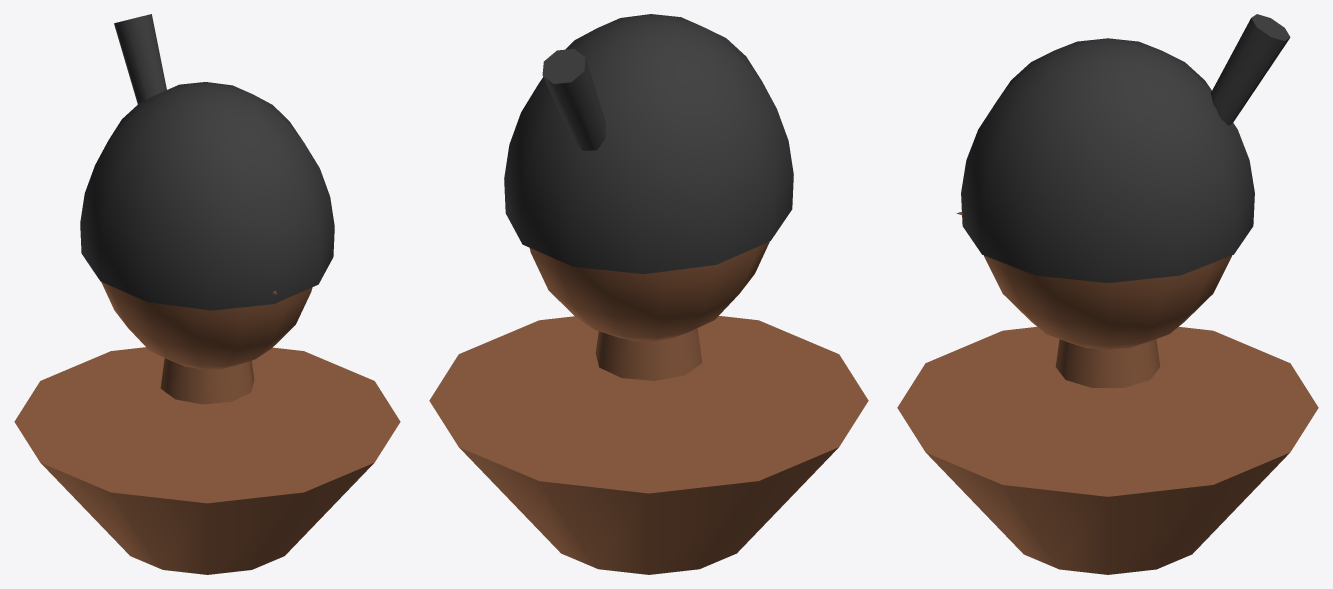
Rendered from raw_001.glb.
3 renders of one model, left to right at view 1: azimuth 30°, elevation 25°; view 2: azimuth 150°, elevation 25°; view 3: azimuth 270°, elevation 25°, orthographic. The views are drawn at different scales.
Size of the model in its own units: 1.69 by 2.29 by 1.69.
